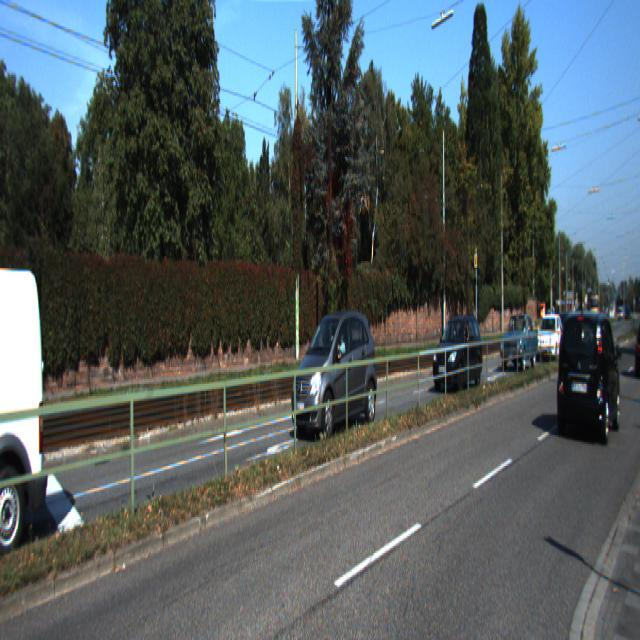Car: (0, 258, 55, 565), (291, 308, 379, 446), (555, 304, 621, 447), (432, 310, 485, 392), (500, 312, 539, 370), (536, 312, 566, 362), (630, 313, 640, 380)
